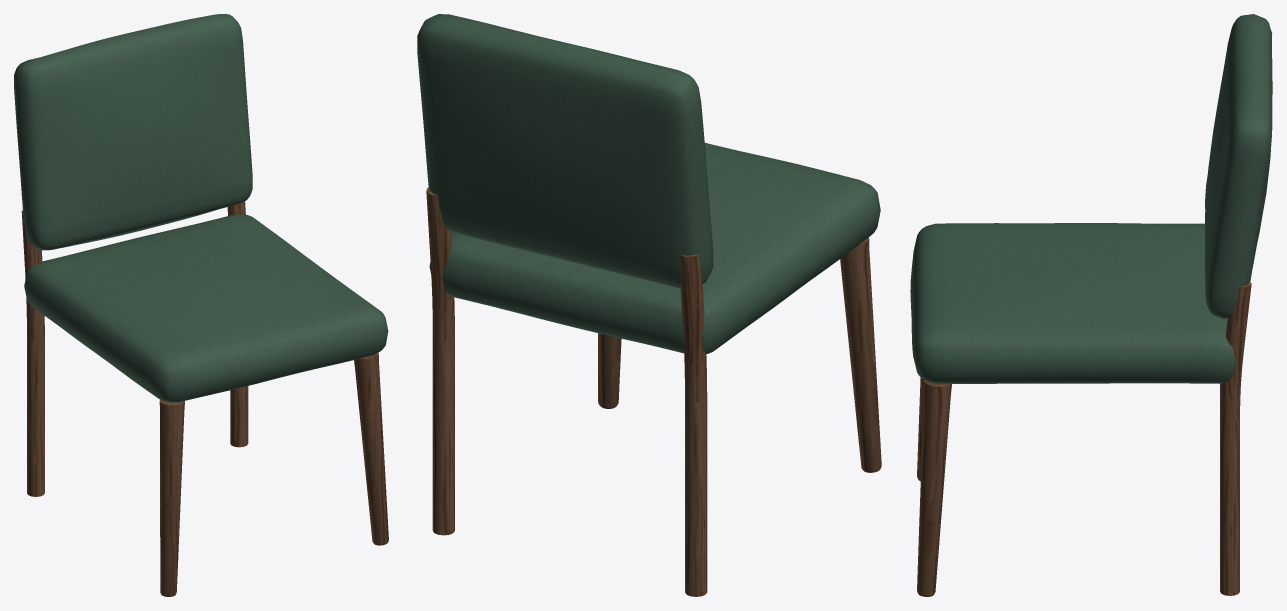
The model's file is silla_tapizada_verde.glb.
3 views of the same model, side by side, from view 1: azimuth 30°, elevation 25°; view 2: azimuth 150°, elevation 25°; view 3: azimuth 270°, elevation 25° (orthographic). The views are drawn at different scales.
Visible parts, largest first — view 1: silla_tapizada_verde; view 2: silla_tapizada_verde; view 3: silla_tapizada_verde.
Part boxes in pixels (box(x1,y1,x2,y2)): silla_tapizada_verde: box(14, 14, 388, 596); silla_tapizada_verde: box(417, 14, 881, 596); silla_tapizada_verde: box(910, 14, 1272, 596).
Bounding box in the file's own units: 0.4878 × 0.843 × 0.5842.
Materials: 2 (2 with a texture image).
